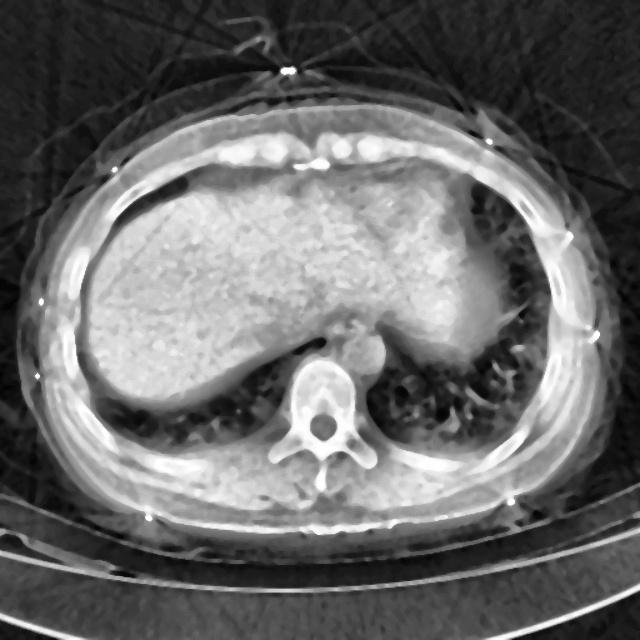covid: (19, 95, 622, 552)
